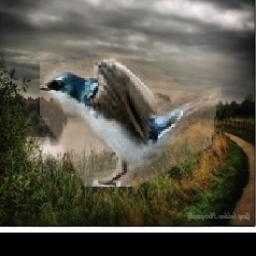Swallow: (39, 54, 221, 188)
